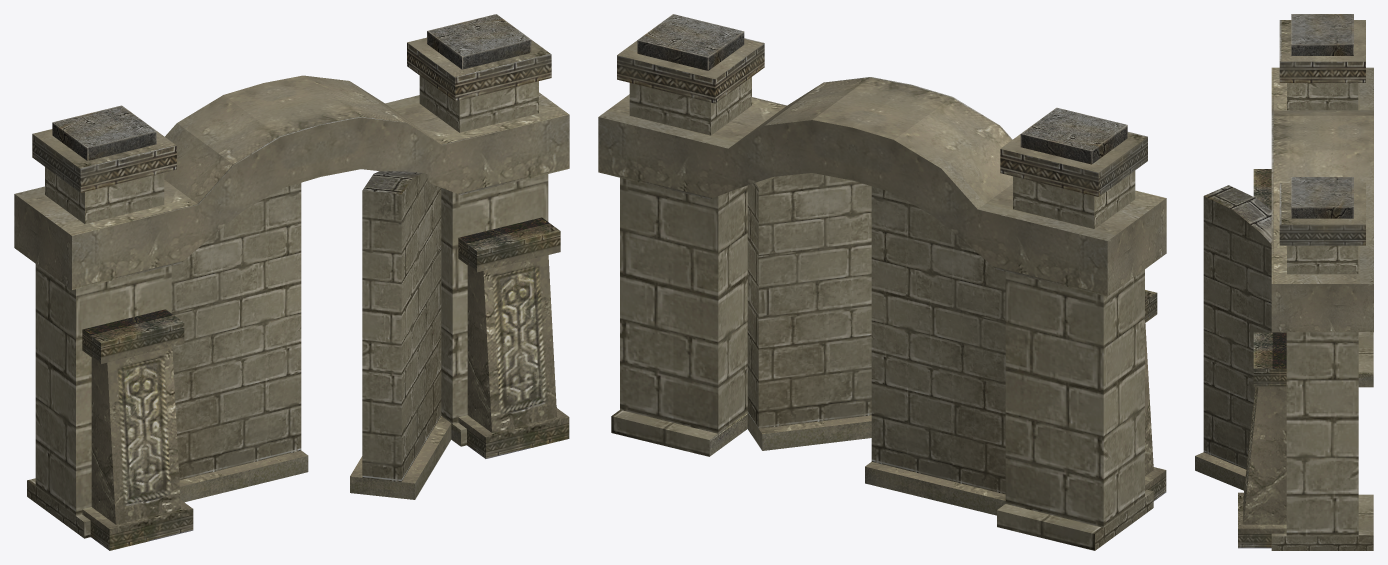
The model's file is BraTrace004_11.FBX.
The picture shows the model from 3 angles, left to right: view 1: azimuth 30°, elevation 25°; view 2: azimuth 150°, elevation 25°; view 3: azimuth 270°, elevation 25°; orthographic projection. The views are drawn at different scales.
Parts seen in each view (by area): view 1: BraTrace004_11; view 2: BraTrace004_11; view 3: BraTrace004_11.
Part boxes in pixels (x1,y1,x2,y2): BraTrace004_11: (14,14,569,550); BraTrace004_11: (598,14,1166,550); BraTrace004_11: (1195,14,1373,550).
Bounding box in the file's own units: 1346 × 980 × 470.
